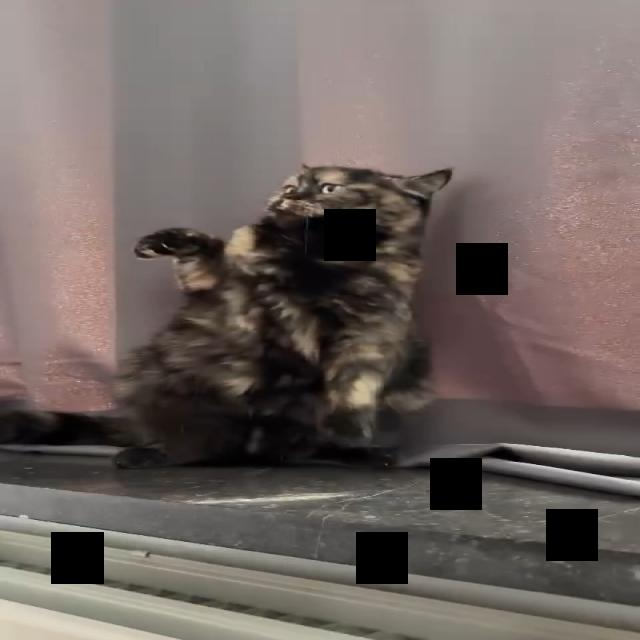authorized: (106, 161, 453, 468)
